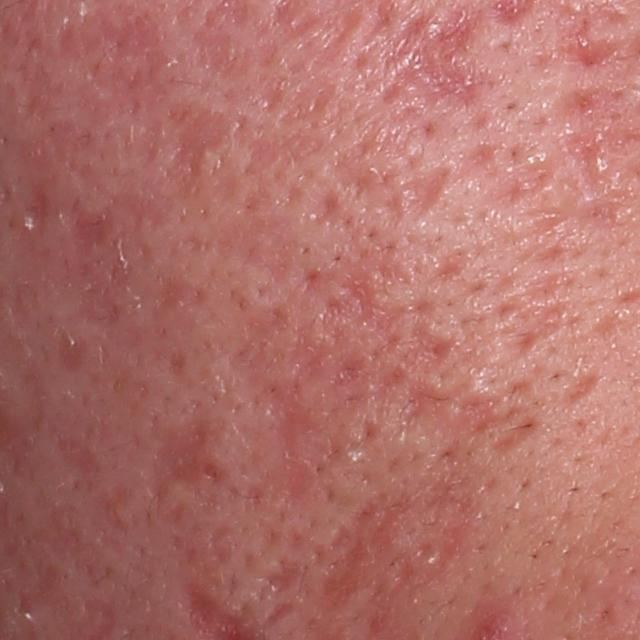atrophic_scar: (223, 304, 322, 502), (375, 4, 500, 113), (185, 188, 304, 284), (44, 15, 170, 96), (315, 500, 404, 610), (146, 408, 238, 513), (559, 82, 626, 204), (162, 101, 248, 189), (451, 380, 541, 455), (283, 5, 369, 82), (502, 269, 573, 358), (322, 264, 380, 345), (394, 380, 475, 435), (189, 28, 255, 90), (558, 15, 624, 74), (404, 158, 453, 225), (278, 75, 339, 126), (244, 135, 322, 173), (65, 200, 116, 252), (15, 176, 51, 244), (258, 552, 306, 601), (551, 367, 601, 411), (404, 327, 444, 375)
